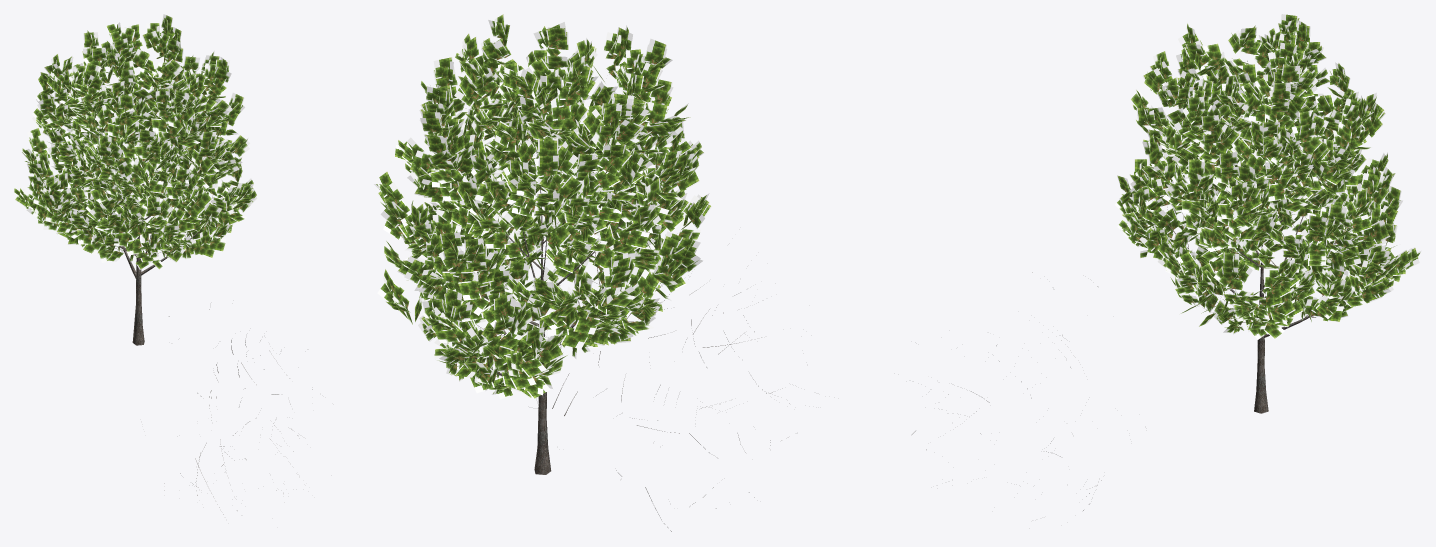
The picture shows the model from 3 angles, left to right: view 1: azimuth 30°, elevation 25°; view 2: azimuth 150°, elevation 25°; view 3: azimuth 270°, elevation 25°; orthographic projection. The views are drawn at different scales.
Visible parts, largest first — view 1: Material2.455; view 2: Material2.455; view 3: Material2.455.
Part boxes in pixels (<box>): Material2.455: <box>132,187,144,345</box>; Material2.455: <box>534,238,551,474</box>; Material2.455: <box>1254,245,1268,413</box>.
Size of the model in its own units: 239 by 430 by 430.
3 materials, 3 textured.
